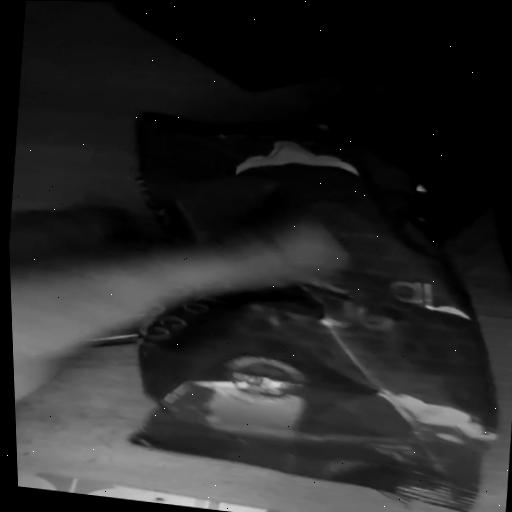cafe_xay: (134, 113, 498, 512)
